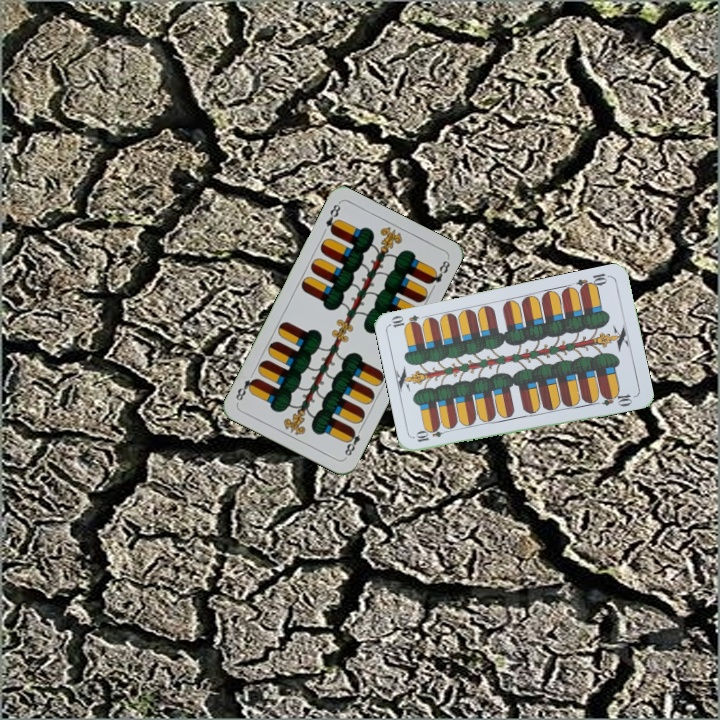E10: (572, 269, 613, 293), (412, 424, 452, 445)
E8: (340, 423, 365, 460), (321, 200, 343, 237)
